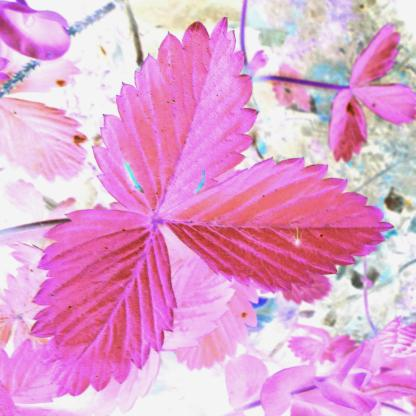strawberry leaf: (92, 9, 258, 210), (171, 158, 396, 297), (29, 205, 175, 395)
